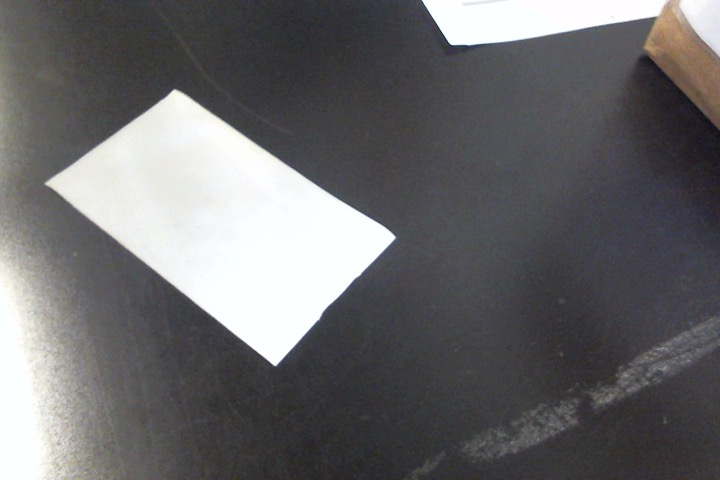Tape: (44, 88, 398, 368)
